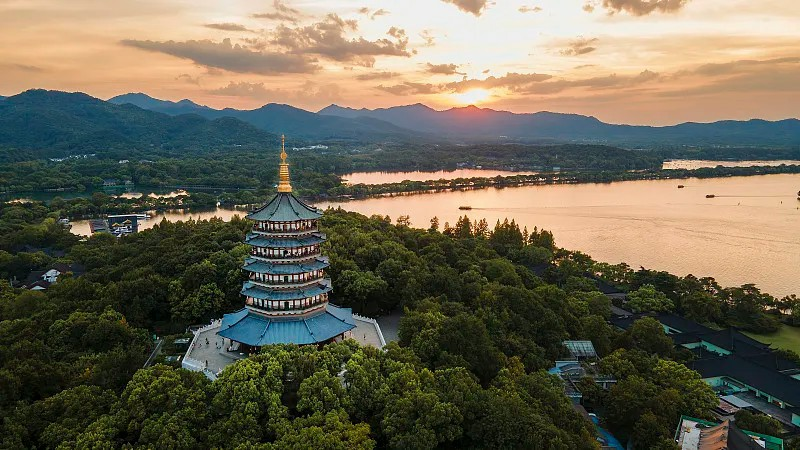Leifeng: (216, 132, 360, 365)
